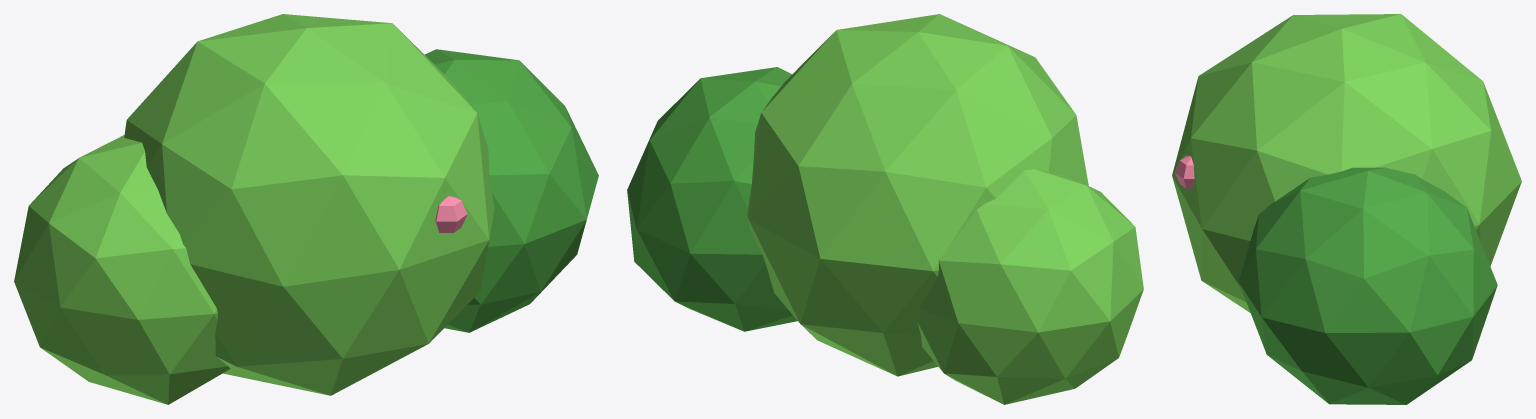
File: bush.glb
3 views of the same model, side by side, from view 1: azimuth 30°, elevation 25°; view 2: azimuth 150°, elevation 25°; view 3: azimuth 270°, elevation 25° (orthographic). The views are drawn at different scales.
Parts seen in each view (by area): view 1: bush; view 2: bush; view 3: bush.
Boxes of the visible parts, left/top/right/bottom form: bush: left=14, top=14, right=598, bottom=404; bush: left=627, top=14, right=1143, bottom=404; bush: left=1172, top=14, right=1521, bottom=404.
Bounding box in the file's own units: 1.18 × 0.7431 × 0.7642.
